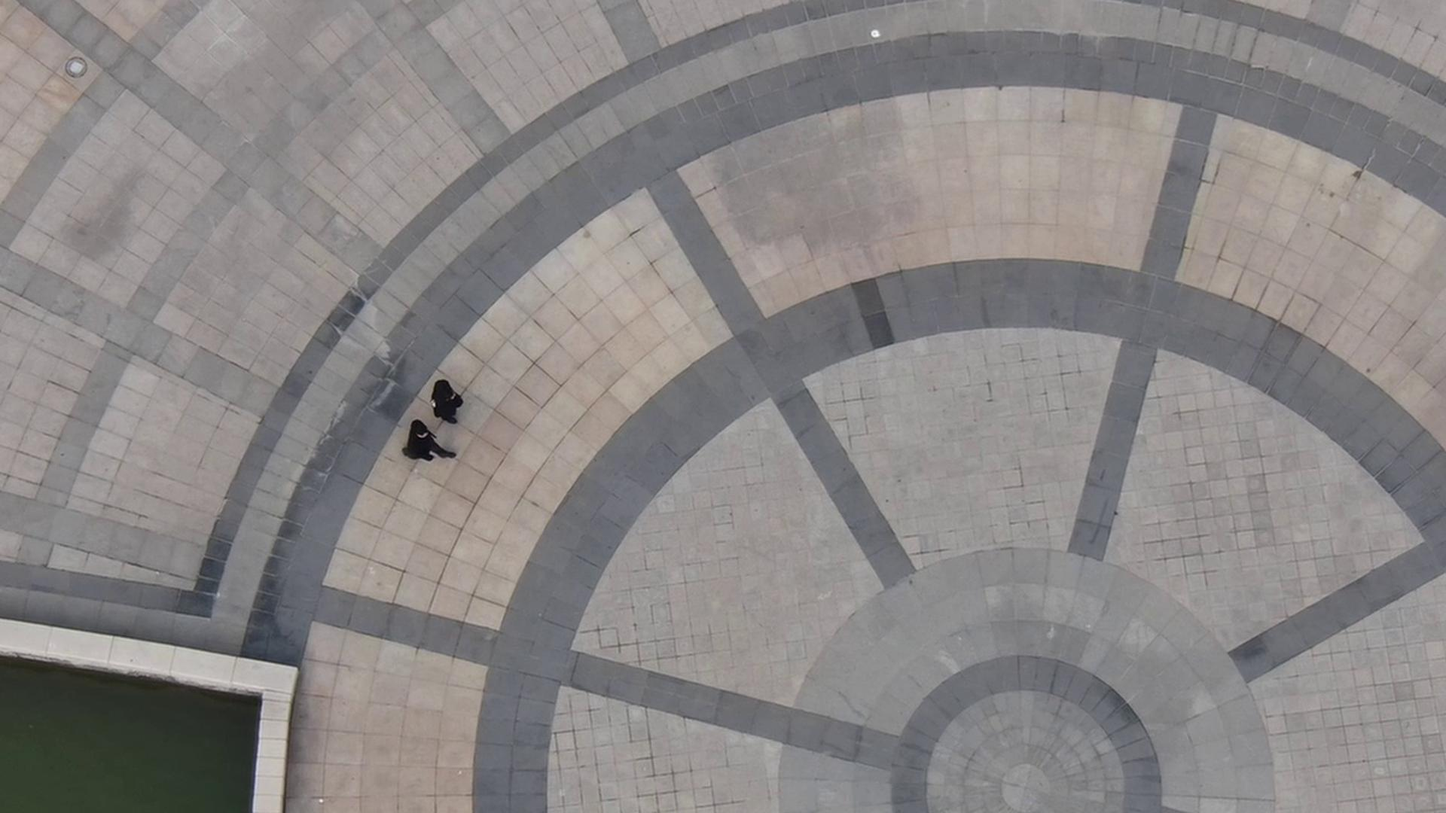human: (440, 356, 496, 419), (423, 400, 478, 458)
